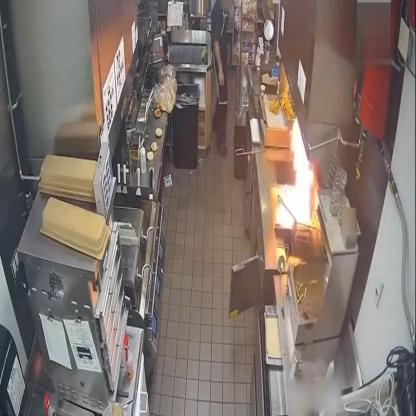fire: (276, 112, 318, 233)
